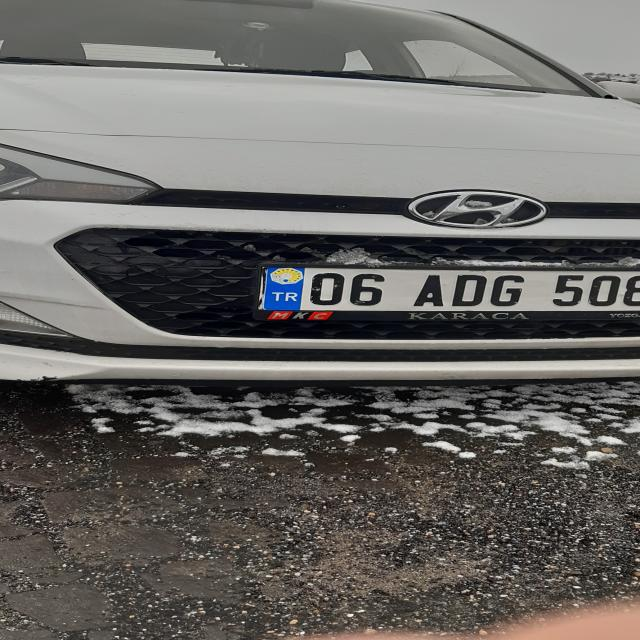plate: (256, 266, 640, 312)
